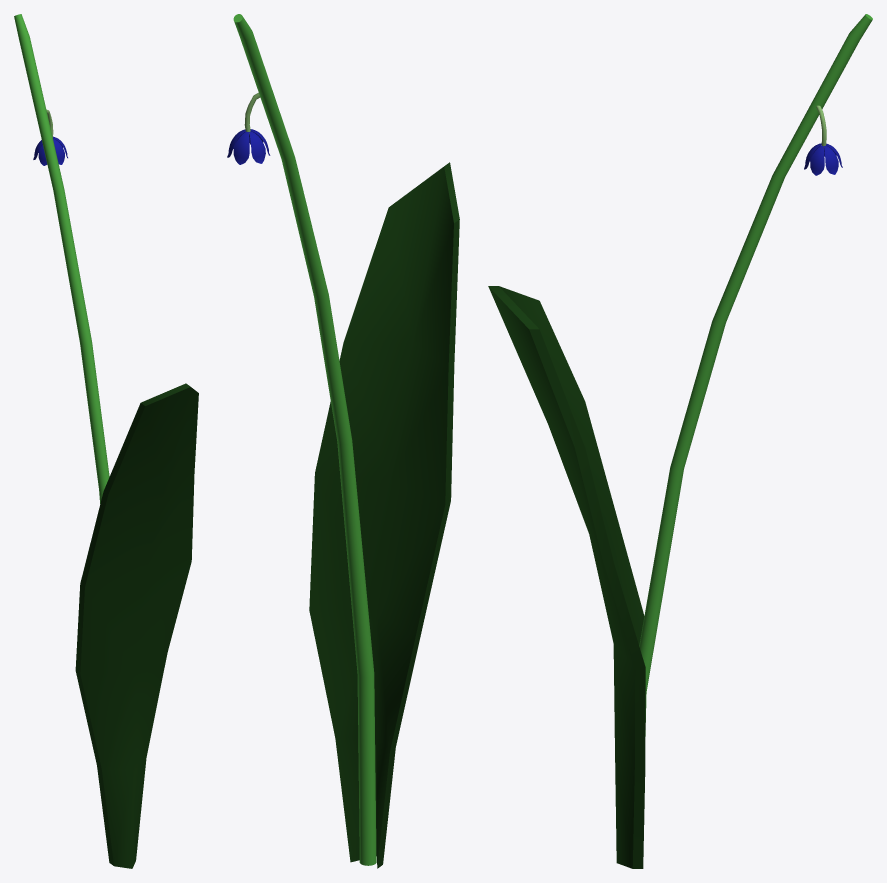
File: lilyofthevalley.fbx
3 renders of one model, left to right at view 1: azimuth 30°, elevation 25°; view 2: azimuth 150°, elevation 25°; view 3: azimuth 270°, elevation 25°, orthographic. The views are drawn at different scales.
Visible parts, largest first — view 1: Cylinder001; view 2: Cylinder001; view 3: Cylinder001.
Boxes of the visible parts, x1=… form: Cylinder001: x1=14, y1=14, x2=198, y2=868; Cylinder001: x1=227, y1=14, x2=459, y2=868; Cylinder001: x1=488, y1=14, x2=872, y2=868.
Bounding box in the file's own units: 0.19 × 1.31 × 0.5392.
